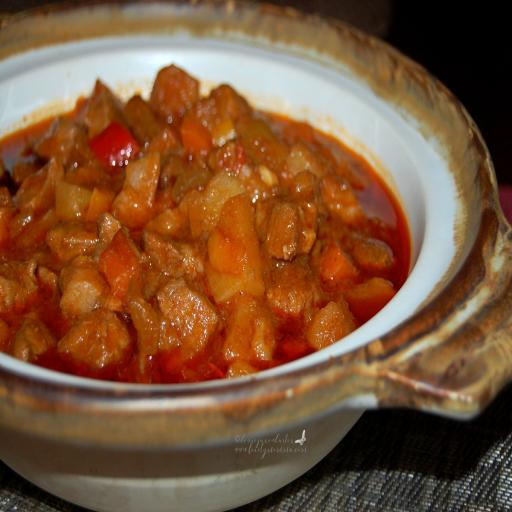pork caldereta: (8, 61, 408, 374)
